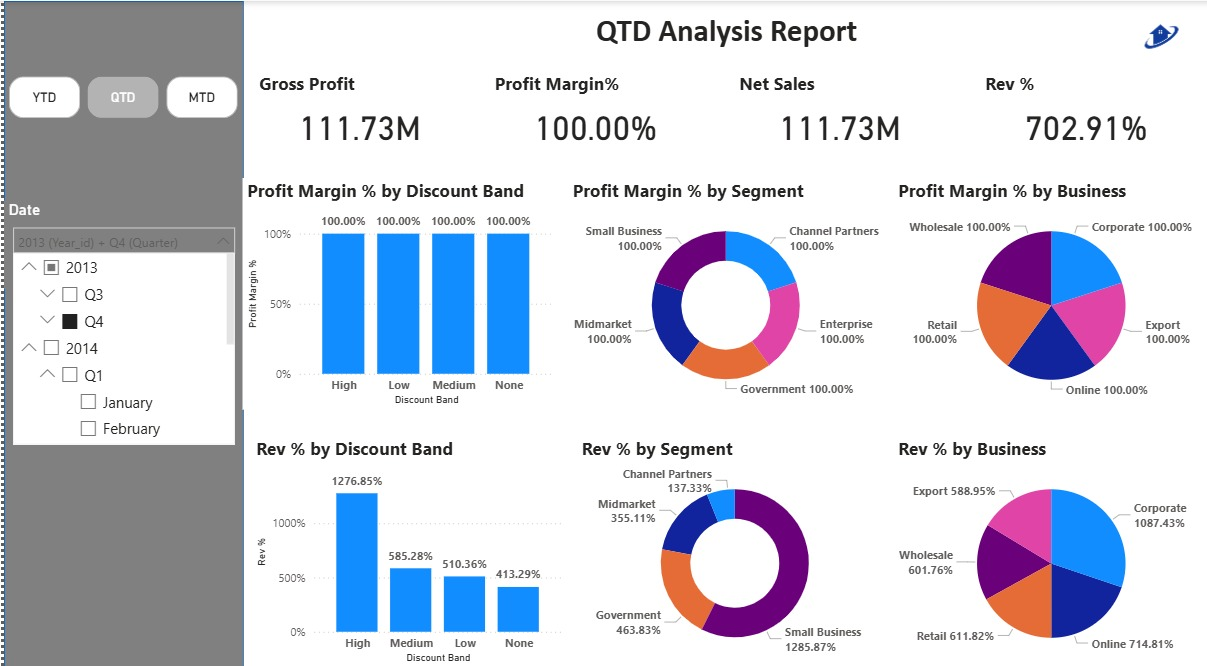

The page's visual inventory and layout, read from the dashboard file:
{"tool":"powerbi","page":{"name":"QTD","canvas":[1280,720],"ordinal":3},"visuals":[{"type":"shape","box":[0,0,245,720],"z":0},{"type":"advancedSlicerVisual","fields":{"Values":["Time.Slicer"]},"box":[5,60,235,65],"z":1000},{"type":"slicer","title":"Date","fields":{"Values":["Dim_Date.Year_id","Dim_Date.Quarter","Dim_Date.Month_Name"]},"box":[5,170,235,292.5],"z":1000,"group":"g1"},{"type":"actionButton","box":[317.9,0,100.3,40.4],"z":2000},{"type":"slicer","fields":{"Values":["Fact-Finance.Business"]},"box":[5,485,235,80],"z":3000},{"type":"shape","box":[253.1,0,891.4,59.9],"z":4000},{"type":"group","id":"g1","title":"Group 1","box":[5,170,235,292.5],"z":5000},{"type":"cardVisual","title":"Gross Profit","fields":{"Data":["Measures(1).Dynamic_GrossProfit"]},"box":[260,63.8,246.2,106.2],"z":6000},{"type":"cardVisual","title":"Profit Margin%","fields":{"Data":["Measures(1).Profit Margin%"]},"box":[517.5,60,245,106.2],"z":7000},{"type":"cardVisual","fields":{"Data":["Measures(1).Selected Date Header"]},"box":[5,196.2,235,27.5],"z":7001,"group":"g1"},{"type":"cardVisual","title":"Net Sales","fields":{"Data":["Measures(1).Selected Net Sales"]},"box":[770,63.8,246.2,106.2],"z":8000},{"type":"cardVisual","title":"Revenue %","fields":{"Data":["Measures(1).Revenue%"]},"box":[1033.8,63.8,246.2,106.2],"z":9000},{"type":"columnChart","fields":{"Category":["Fact-Finance.Discount Band"],"Y":["Measures(1).Profit Margin%"]},"box":[260,170,340,266.2],"z":10000},{"type":"donutChart","fields":{"Category":["Fact-Finance.Segment"],"Y":["Measures(1).Profit Margin%"]},"box":[600,170,340,263.8],"z":11000},{"type":"pieChart","fields":{"Y":["Measures(1).Profit Margin%"],"Category":["Fact-Finance.Business"]},"box":[940,166.2,340,266.2],"z":12000},{"type":"columnChart","fields":{"Category":["Fact-Finance.Discount Band"],"Y":["Measures(1).Revenue%"]},"box":[260.5,464.7,339.9,255.6],"z":13000},{"type":"donutChart","fields":{"Category":["Fact-Finance.Segment"],"Y":["Measures(1).Revenue%"]},"box":[940.4,464.7,339.9,255.6],"z":14000},{"type":"pieChart","fields":{"Category":["Fact-Finance.Business"],"Y":["Measures(1).Revenue%"]},"box":[600.4,464.7,339.9,255.6],"z":15000},{"type":"image","box":[1208.8,11.2,55,48.8],"z":16000}]}

Visuals, with their boxes on the page's 1280x720 design canvas (x1, y1, x2, y2). These are canvas units, not pixel positions in the 1207x666 screenshot, which may show the page scaled, cropped or inside an application window:
shape: region(0, 0, 245, 720)
advancedSlicerVisual - Time.Slicer: region(5, 60, 240, 125)
"Date" slicer: region(5, 170, 240, 462)
actionButton: region(318, 0, 418, 40)
slicer - Fact-Finance.Business: region(5, 485, 240, 565)
shape: region(253, 0, 1144, 60)
"Group 1" group: region(5, 170, 240, 462)
"Gross Profit" cardVisual: region(260, 64, 506, 170)
"Profit Margin%" cardVisual: region(518, 60, 762, 166)
cardVisual - Measures(1).Selected Date Header: region(5, 196, 240, 224)
"Net Sales" cardVisual: region(770, 64, 1016, 170)
"Revenue %" cardVisual: region(1034, 64, 1280, 170)
columnChart - Fact-Finance.Discount Band x Measures(1).Profit Margin%: region(260, 170, 600, 436)
donutChart - Fact-Finance.Segment x Measures(1).Profit Margin%: region(600, 170, 940, 434)
pieChart - Measures(1).Profit Margin% x Fact-Finance.Business: region(940, 166, 1280, 432)
columnChart - Fact-Finance.Discount Band x Measures(1).Revenue%: region(260, 465, 600, 720)
donutChart - Fact-Finance.Segment x Measures(1).Revenue%: region(940, 465, 1280, 720)
pieChart - Fact-Finance.Business x Measures(1).Revenue%: region(600, 465, 940, 720)
image: region(1209, 11, 1264, 60)
